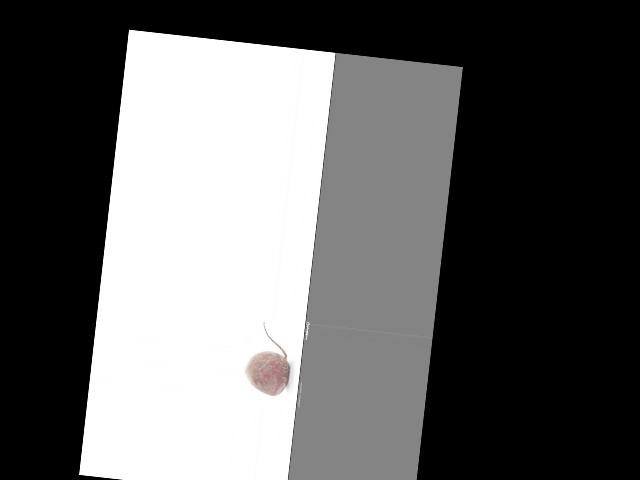beet: (243, 320, 294, 397)
